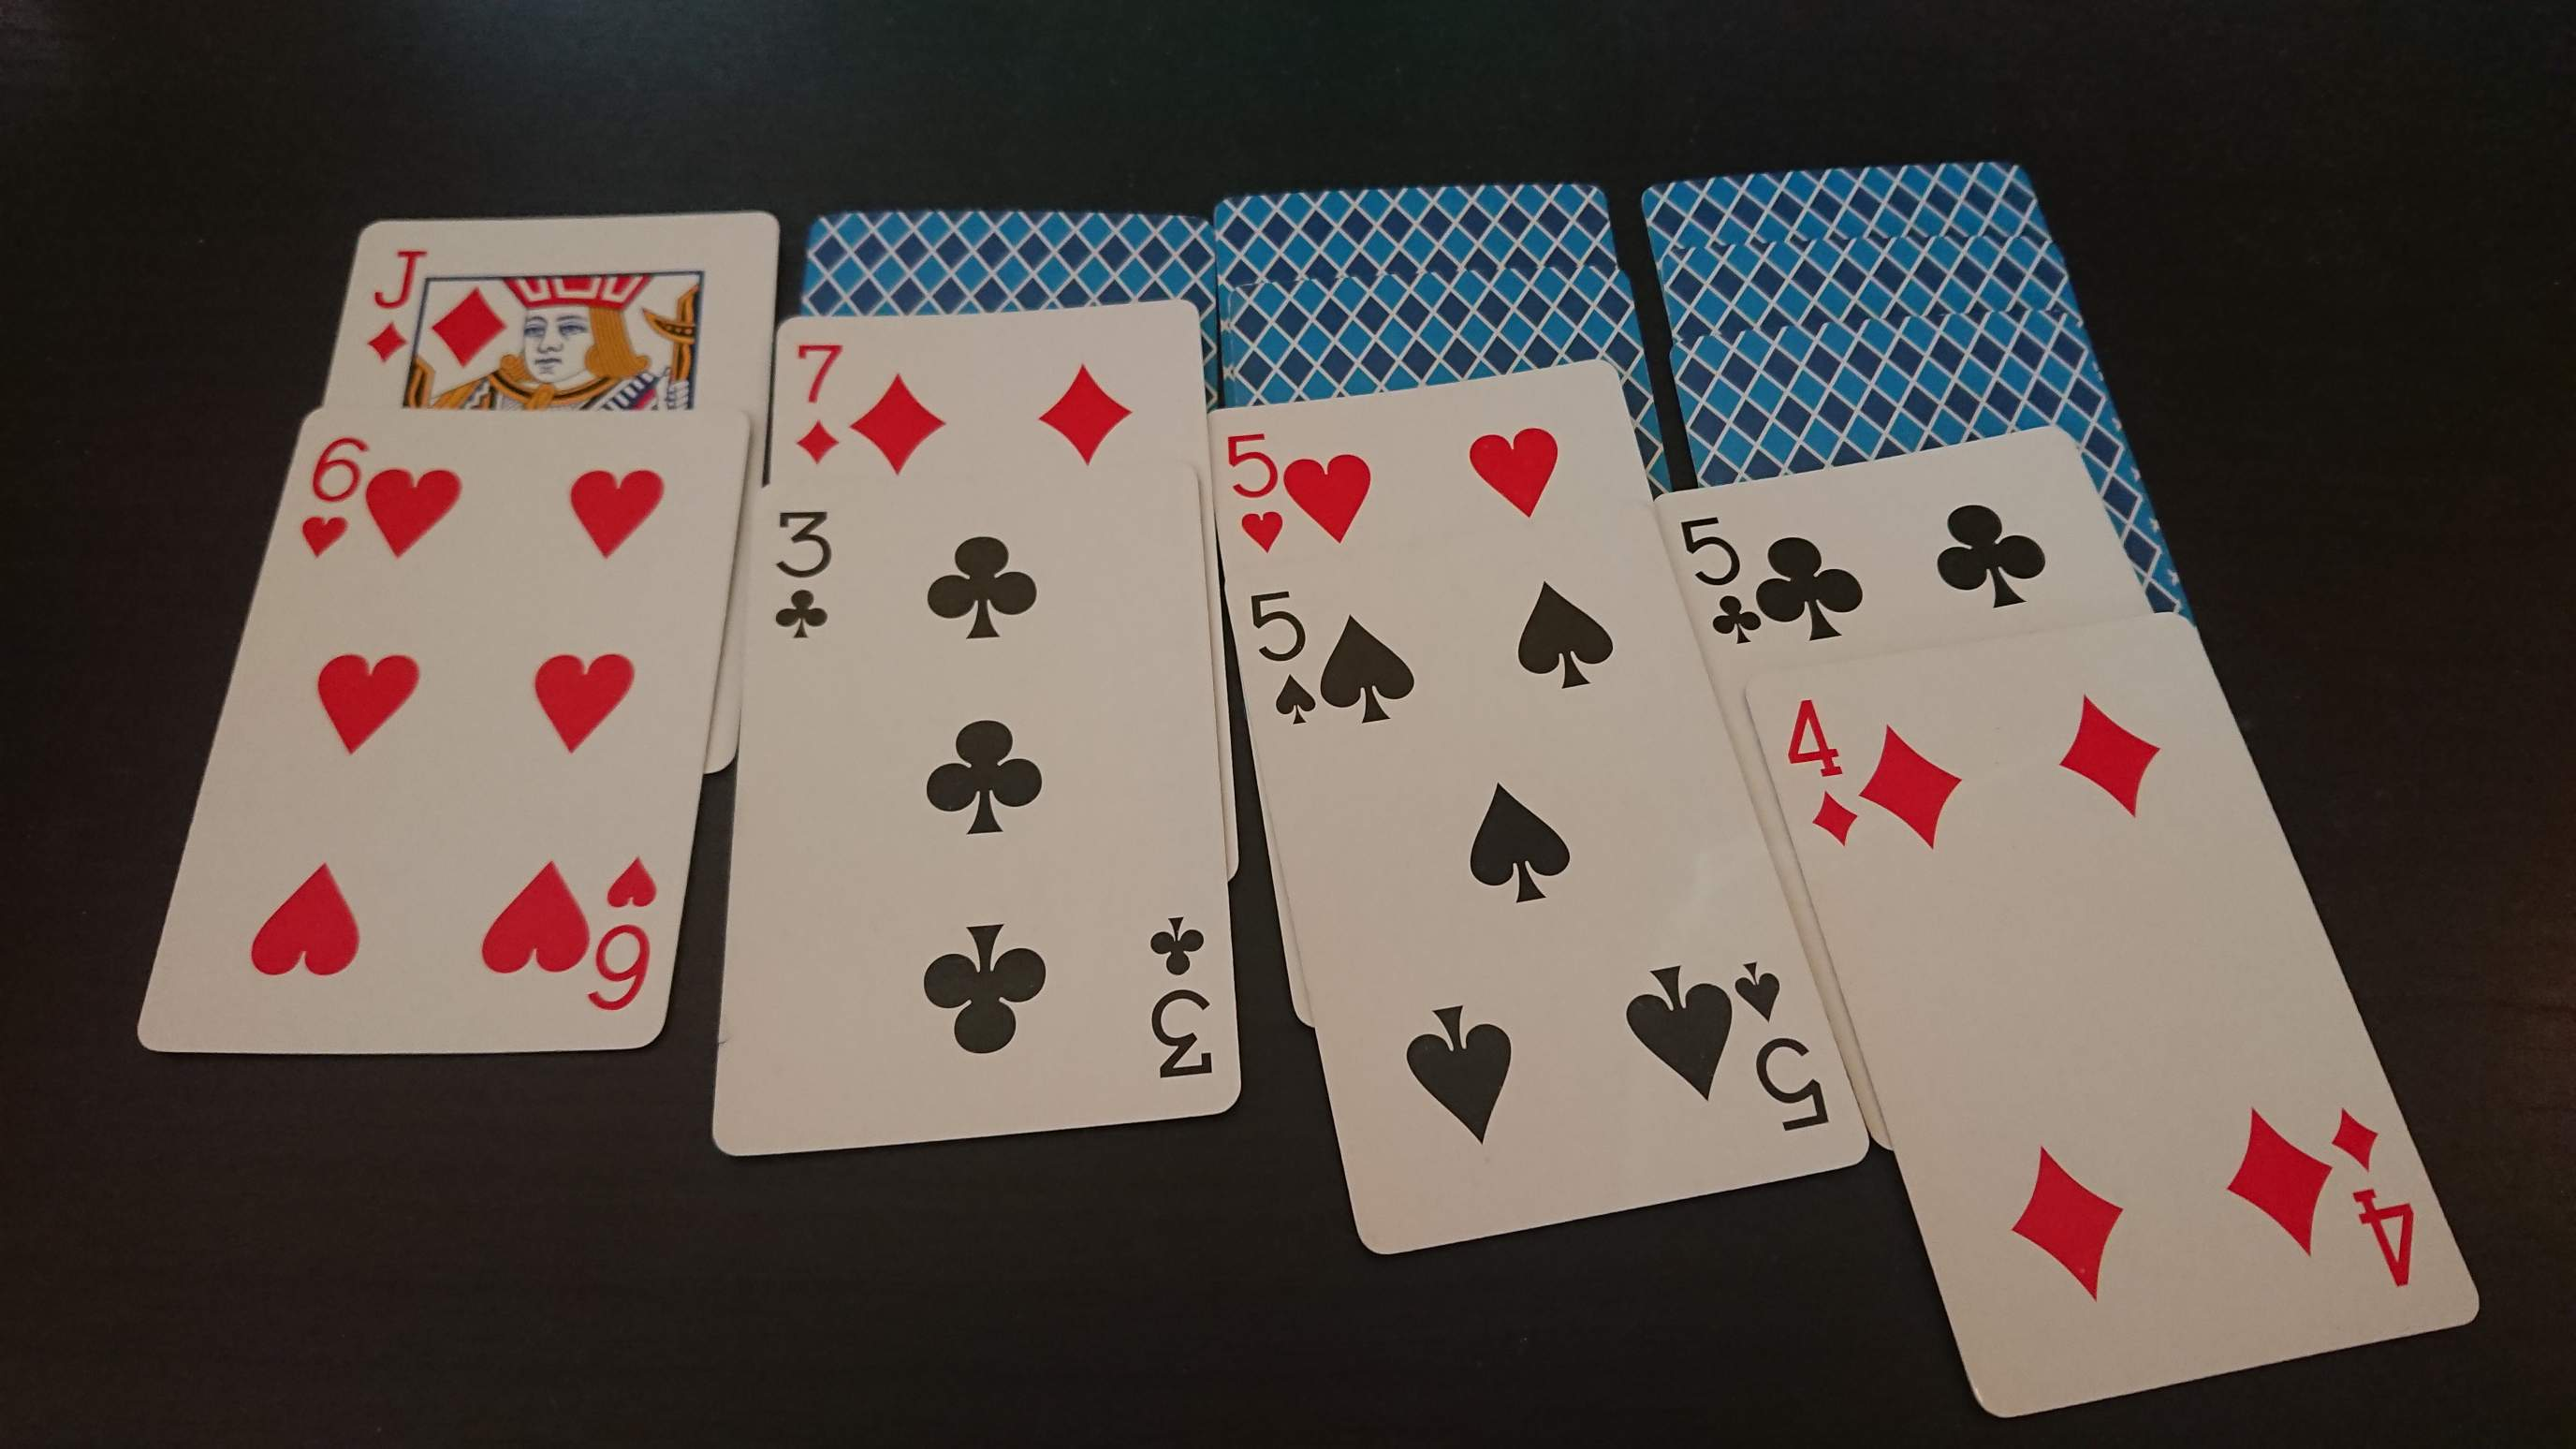3C: (771, 508, 835, 644)
4D: (1783, 695, 1861, 849)
5C: (1677, 513, 1764, 648)
5H: (1223, 430, 1284, 557)
5S: (1246, 586, 1318, 729)
6H: (295, 433, 368, 561)
7D: (787, 340, 846, 471)
BACK: (1672, 315, 2141, 456), (1223, 276, 1652, 389), (796, 205, 1217, 313), (1654, 234, 2088, 331), (1638, 159, 2059, 239), (1214, 186, 1621, 265)
JD: (363, 244, 430, 364)
